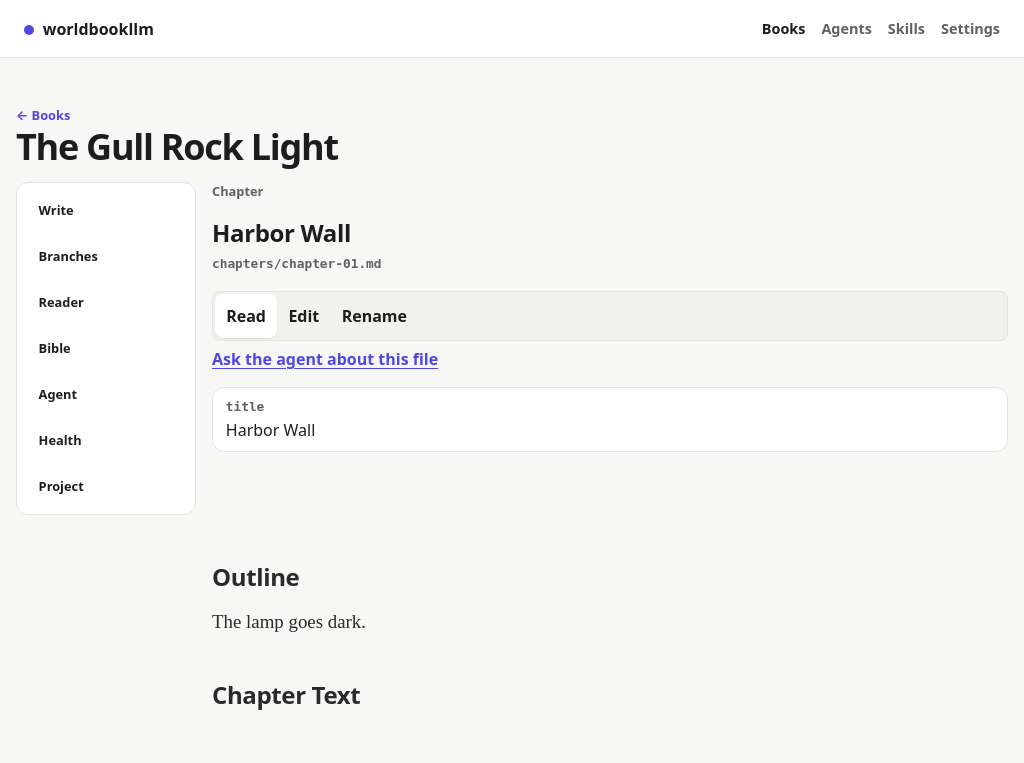
Test: the ink editor › edits a chapter as ink, checks the unsaved text, and lists this file's problems
What coordinates should you click on to do the following:
click the button "Edit"
I would click on:
 (304, 316)
Its box is [277,294,330,338].
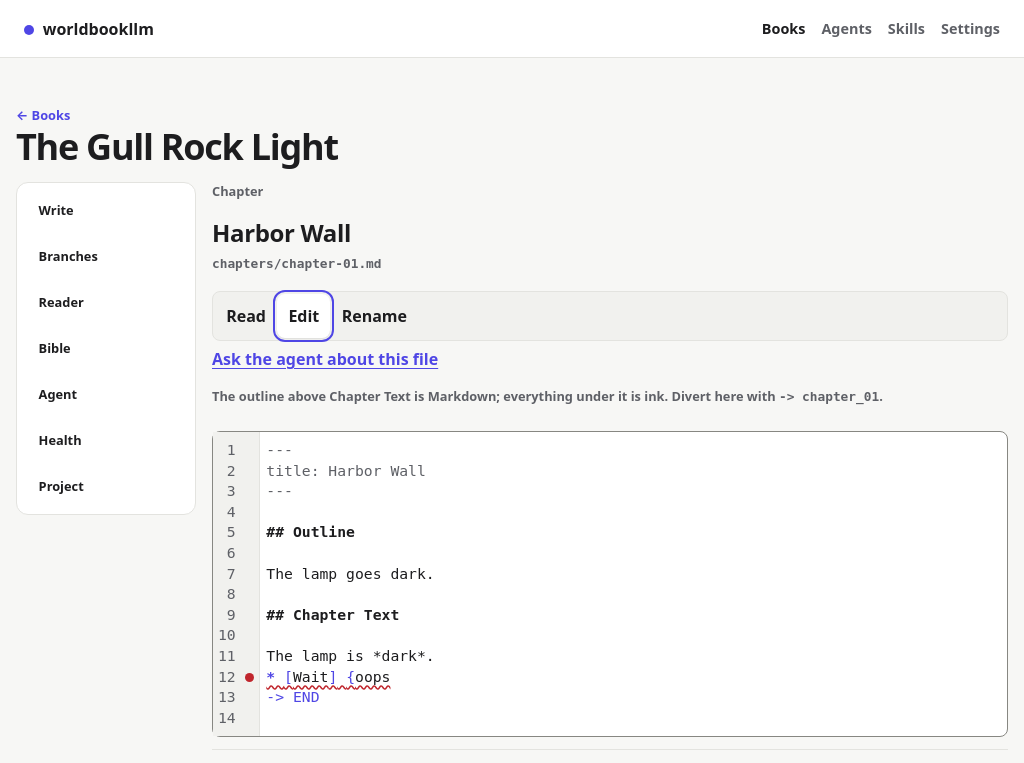
Now the text "everything under it is ink" is shown, box [212,387,668,405]
Now the text "-> chapter_01" is shown, box [779,389,879,404]
Now the field named "chapters/chapter-01.md, ink" shows "The lamp is *dark*.", box [266,441,435,705]
